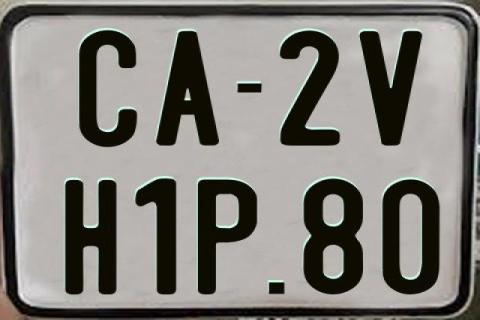0: (278, 28, 342, 144), (302, 178, 362, 298), (381, 177, 441, 293), (133, 176, 180, 295)
A: (156, 30, 218, 150)
C: (79, 29, 143, 149)
H: (62, 180, 120, 298)
P: (198, 179, 259, 295)
V: (358, 30, 422, 148)
